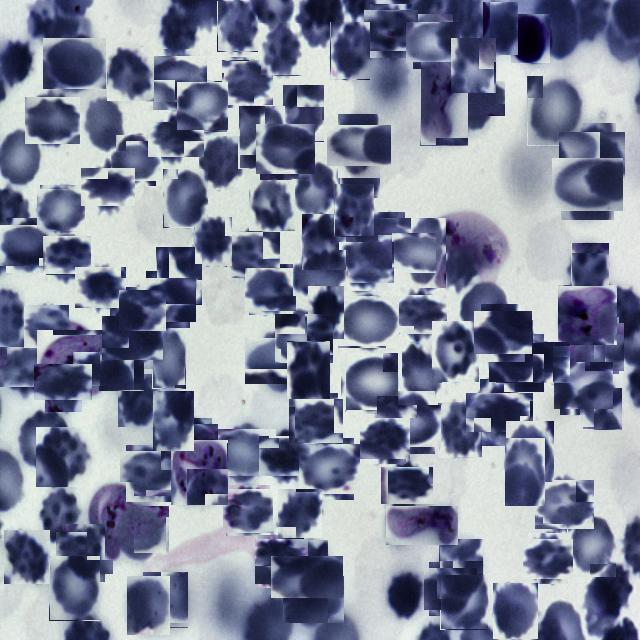leukocyte: (512, 14, 552, 63)
red blood cell: (527, 76, 583, 146), (556, 153, 619, 215), (342, 350, 404, 412), (16, 408, 70, 471), (46, 34, 104, 92), (380, 392, 438, 450), (278, 548, 336, 606), (49, 556, 100, 621), (339, 294, 396, 351), (36, 427, 90, 487), (250, 333, 307, 389), (458, 278, 511, 338), (216, 424, 272, 480), (301, 441, 357, 497), (564, 128, 620, 184), (110, 502, 166, 558), (567, 514, 616, 576), (538, 476, 592, 532), (398, 226, 454, 280), (286, 572, 341, 626), (276, 312, 331, 366), (506, 421, 554, 482), (258, 122, 312, 176), (239, 106, 285, 169), (432, 321, 479, 382), (150, 52, 203, 106), (568, 320, 622, 373), (474, 386, 526, 440), (332, 120, 386, 172), (558, 358, 610, 412), (105, 312, 158, 364), (398, 342, 442, 404), (489, 320, 533, 382), (505, 438, 545, 506), (26, 94, 78, 146), (123, 448, 175, 500), (163, 421, 215, 473), (156, 247, 202, 305), (163, 169, 208, 228), (439, 539, 484, 598), (440, 575, 488, 630), (357, 215, 408, 266), (292, 162, 338, 218), (142, 572, 188, 628), (450, 38, 496, 94), (99, 334, 144, 391), (478, 307, 528, 358), (107, 47, 154, 101), (127, 576, 170, 635), (293, 250, 348, 296), (493, 583, 538, 639), (228, 230, 278, 280), (291, 396, 341, 446), (256, 536, 306, 586), (59, 528, 109, 578), (178, 82, 228, 132), (143, 274, 193, 324), (200, 136, 246, 190), (4, 530, 50, 584), (438, 402, 482, 458), (302, 214, 346, 270), (153, 391, 194, 451), (287, 341, 330, 398), (499, 338, 548, 388), (249, 177, 295, 230), (83, 95, 126, 151), (579, 374, 622, 430), (449, 74, 498, 123), (2, 222, 52, 270), (342, 238, 392, 286), (282, 85, 324, 142), (38, 488, 82, 542), (590, 564, 634, 618), (0, 343, 48, 392), (330, 22, 370, 80), (224, 58, 272, 106), (396, 291, 444, 339), (224, 486, 272, 534), (367, 7, 415, 55), (426, 565, 474, 613), (409, 18, 457, 66), (262, 432, 310, 479), (247, 266, 295, 313), (40, 358, 87, 406), (277, 489, 322, 539), (260, 23, 302, 76), (118, 374, 160, 427), (385, 566, 426, 620), (85, 163, 131, 210), (585, 577, 621, 637), (334, 184, 374, 237), (525, 536, 571, 582), (38, 186, 84, 232), (78, 264, 124, 310), (362, 416, 408, 462), (153, 116, 199, 162), (217, 1, 258, 52), (384, 464, 430, 508), (571, 243, 609, 296), (114, 138, 158, 183), (44, 234, 89, 278), (121, 288, 165, 333), (152, 331, 186, 389), (482, 2, 518, 56), (24, 304, 68, 348), (308, 286, 344, 339), (194, 217, 232, 267), (340, 151, 380, 198), (528, 342, 570, 384)
trophozoite: (436, 211, 508, 281), (42, 324, 110, 391), (420, 62, 468, 146), (170, 440, 228, 506), (87, 482, 134, 560), (558, 285, 618, 345), (386, 504, 458, 544)
